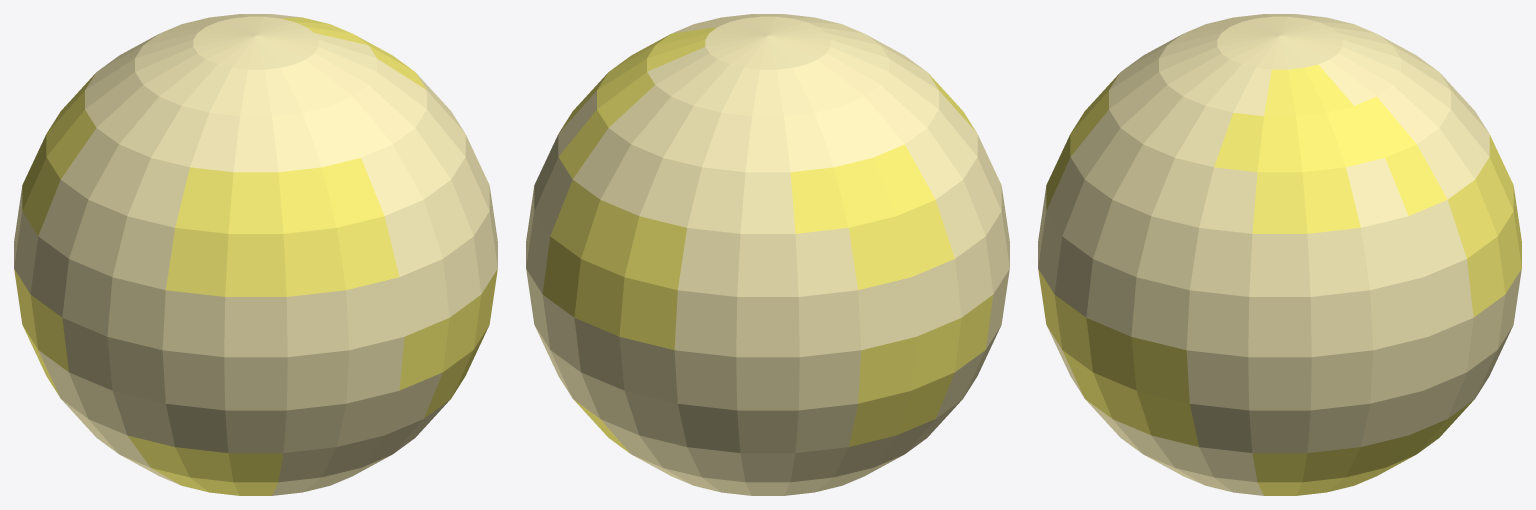
File: star.gltf
The picture shows the model from 3 angles, left to right: view 1: azimuth 30°, elevation 25°; view 2: azimuth 150°, elevation 25°; view 3: azimuth 270°, elevation 25°; orthographic projection.
Parts seen in each view (by area): view 1: sphere; view 2: sphere; view 3: sphere.
Part boxes in pixels (x1,y1,x2,y2): sphere: (14, 14, 497, 495); sphere: (526, 14, 1009, 495); sphere: (1038, 14, 1521, 495).
Size of the model in its own units: 1 by 1 by 1.
Materials: 1 (1 with a texture image).
